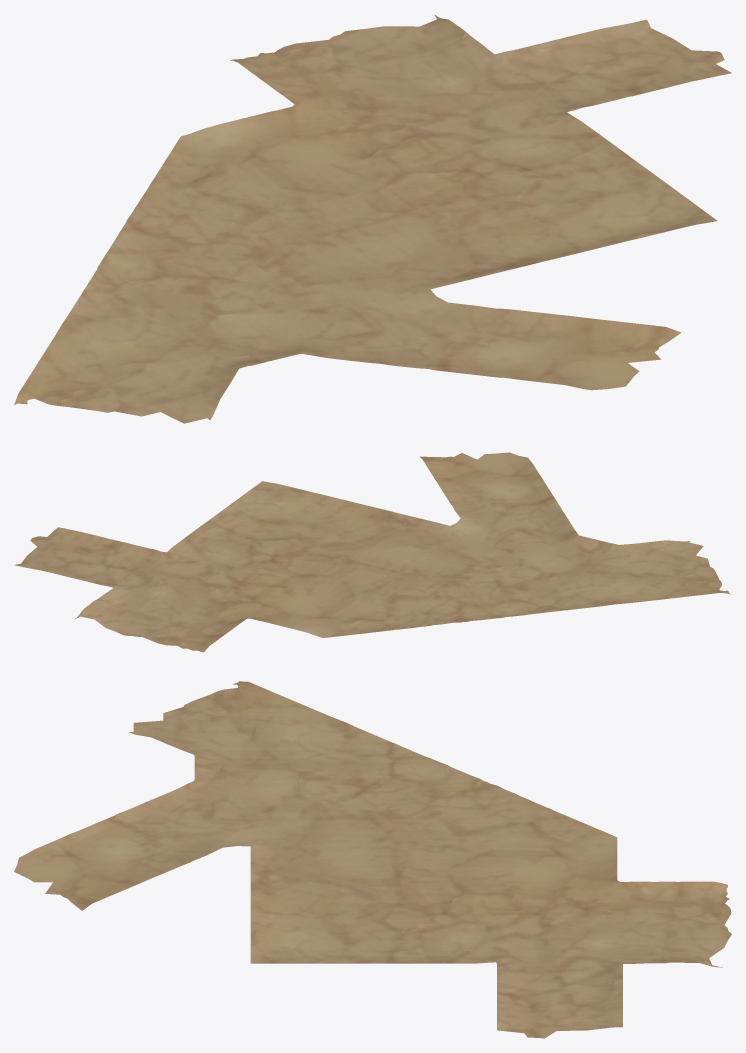
Rendered from SM_ENV_LKNVLD_Ground_Right_ground_01.FBX.
The picture shows the model from 3 angles, top to bottom: view 1: azimuth 30°, elevation 25°; view 2: azimuth 150°, elevation 25°; view 3: azimuth 270°, elevation 25°; orthographic projection. The views are drawn at different scales.
Visible parts, largest first — view 1: SM_ENV_LKNVLD_Ground_Right_ground_01; view 2: SM_ENV_LKNVLD_Ground_Right_ground_01; view 3: SM_ENV_LKNVLD_Ground_Right_ground_01.
Part boxes in pixels (left/top/right/bottom): SM_ENV_LKNVLD_Ground_Right_ground_01: left=14, top=14, right=731, bottom=423; SM_ENV_LKNVLD_Ground_Right_ground_01: left=14, top=452, right=730, bottom=652; SM_ENV_LKNVLD_Ground_Right_ground_01: left=14, top=681, right=731, bottom=1038.
Size of the model in its own units: 2774 by 24.12 by 2347.
